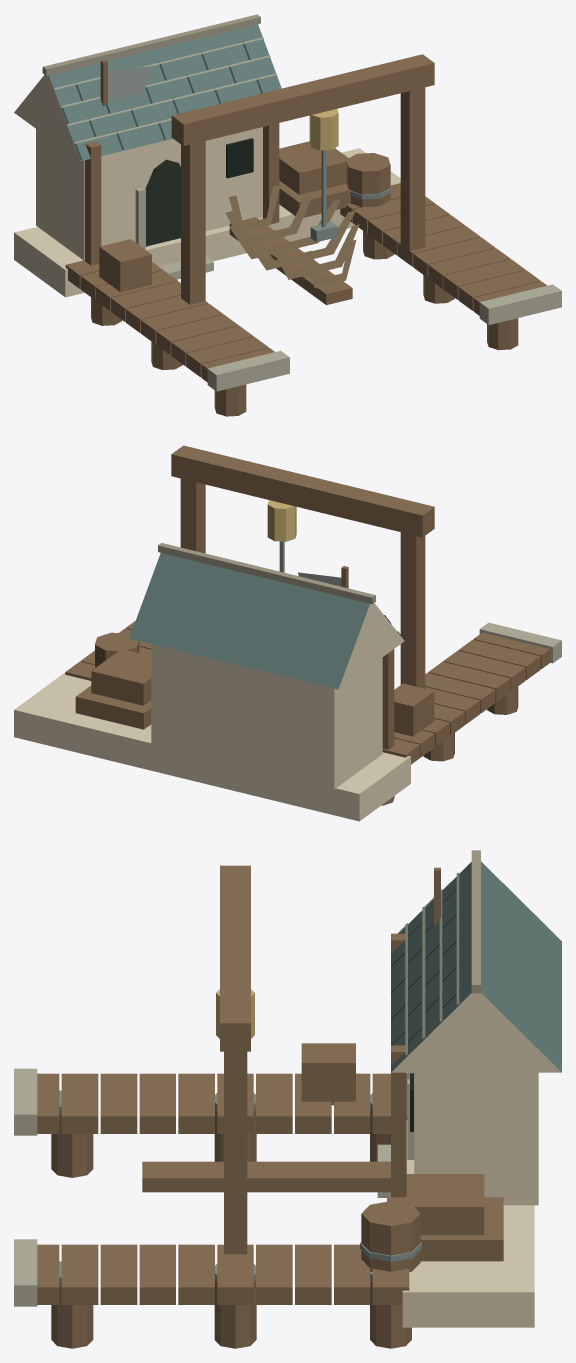
The model's file is shipyard.glb.
3 views of the same model, one above another, from view 1: azimuth 30°, elevation 25°; view 2: azimuth 150°, elevation 25°; view 3: azimuth 270°, elevation 25° (orthographic). The views are drawn at different scales.
Visible parts, largest first — view 1: Building; view 2: Building; view 3: Building.
Boxes of the visible parts, x1,y1,x2,y2 form: Building: [14, 14, 561, 416]; Building: [14, 445, 561, 821]; Building: [14, 850, 561, 1348].
Size of the model in its own units: 66 by 44 by 70.5.
